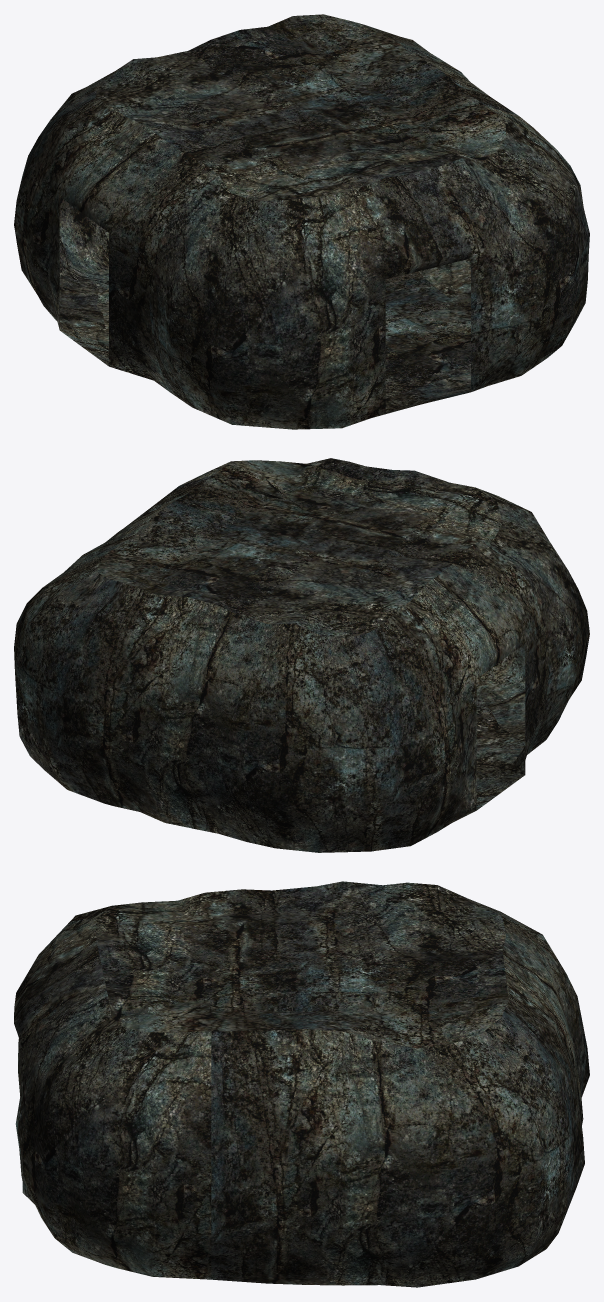
File: 02_06_water_service_room_special.dae
3 views of the same model, one above another, from view 1: azimuth 30°, elevation 25°; view 2: azimuth 150°, elevation 25°; view 3: azimuth 270°, elevation 25° (orthographic). The views are drawn at different scales.
Parts seen in each view (by area): view 1: 02_06_water_service_room_special; view 2: 02_06_water_service_room_special; view 3: 02_06_water_service_room_special.
Part boxes in pixels (left/top/right/bottom): 02_06_water_service_room_special: left=14, top=14, right=589, bottom=429; 02_06_water_service_room_special: left=14, top=458, right=589, bottom=852; 02_06_water_service_room_special: left=14, top=881, right=589, bottom=1287.
Bounding box in the file's own units: 10.22 × 5 × 10.82.
